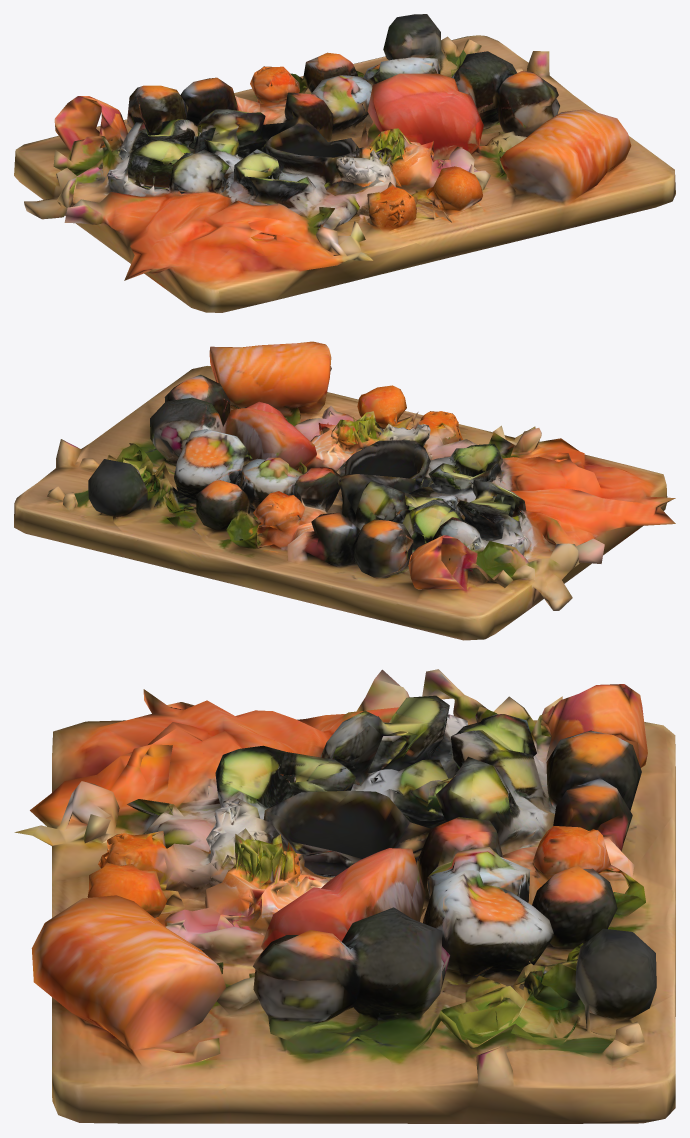
The model's file is sushi_bar_food_0614040004_texture.glb.
3 views of the same model, one above another, from view 1: azimuth 30°, elevation 25°; view 2: azimuth 150°, elevation 25°; view 3: azimuth 270°, elevation 25° (orthographic). The views are drawn at different scales.
Bounding box in the file's own units: 1.96 × 0.32 × 1.38.
1 material, 1 textured.
